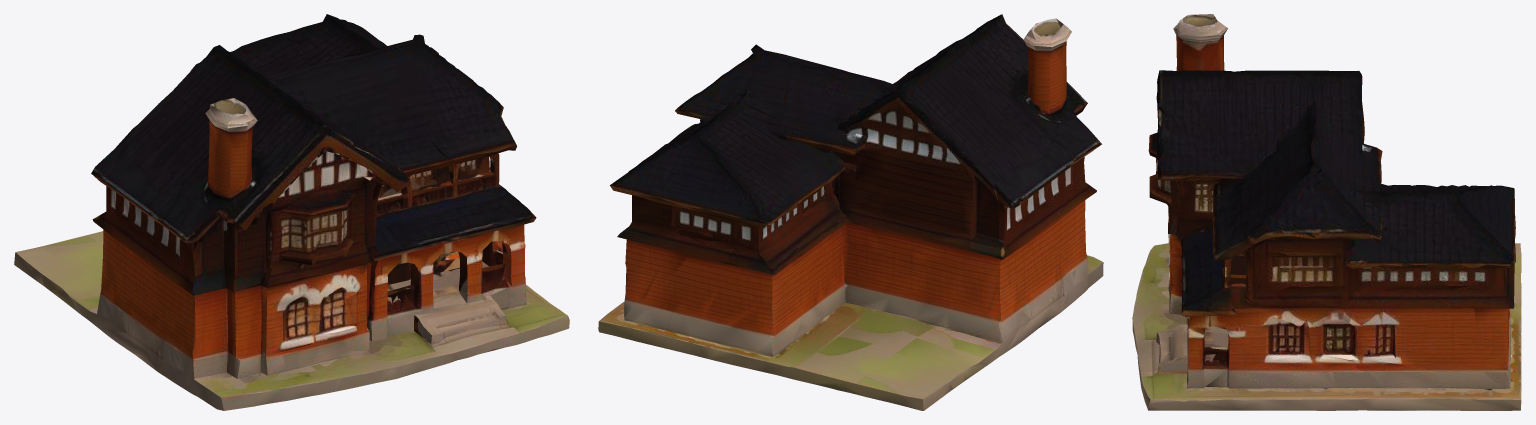
Rendered from beitou-hot-spring-museum.glb.
3 views of the same model, side by side, from view 1: azimuth 30°, elevation 25°; view 2: azimuth 150°, elevation 25°; view 3: azimuth 270°, elevation 25° (orthographic). The views are drawn at different scales.
Parts seen in each view (by area): view 1: logan-textured.obj; view 2: logan-textured.obj; view 3: logan-textured.obj.
Boxes of the visible parts, <box> form: logan-textured.obj: <box>14,14,569,410</box>; logan-textured.obj: <box>598,14,1103,410</box>; logan-textured.obj: <box>1132,14,1521,410</box>.
Bounding box in the file's own units: 0.9848 × 0.7258 × 1.
1 material, 1 textured.
